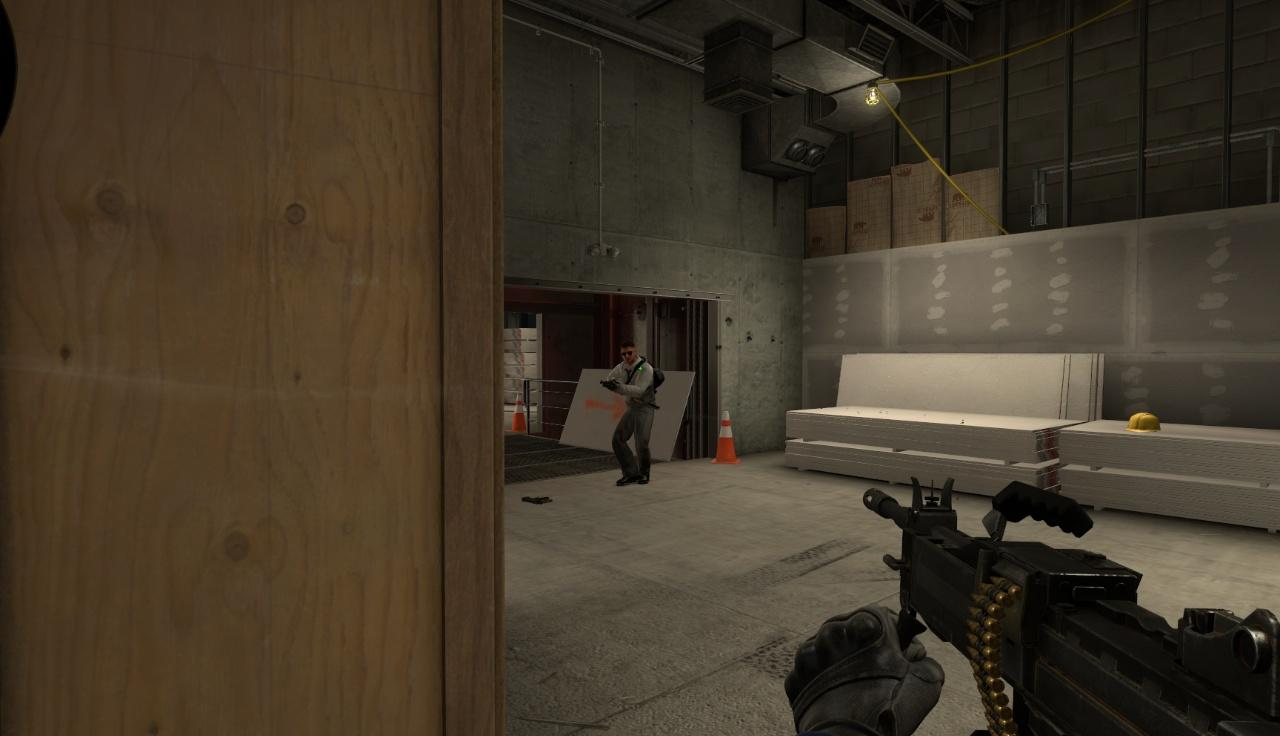rifle: (851, 479, 1280, 736)
tt: (610, 340, 654, 484)
tthead: (620, 343, 636, 364)
